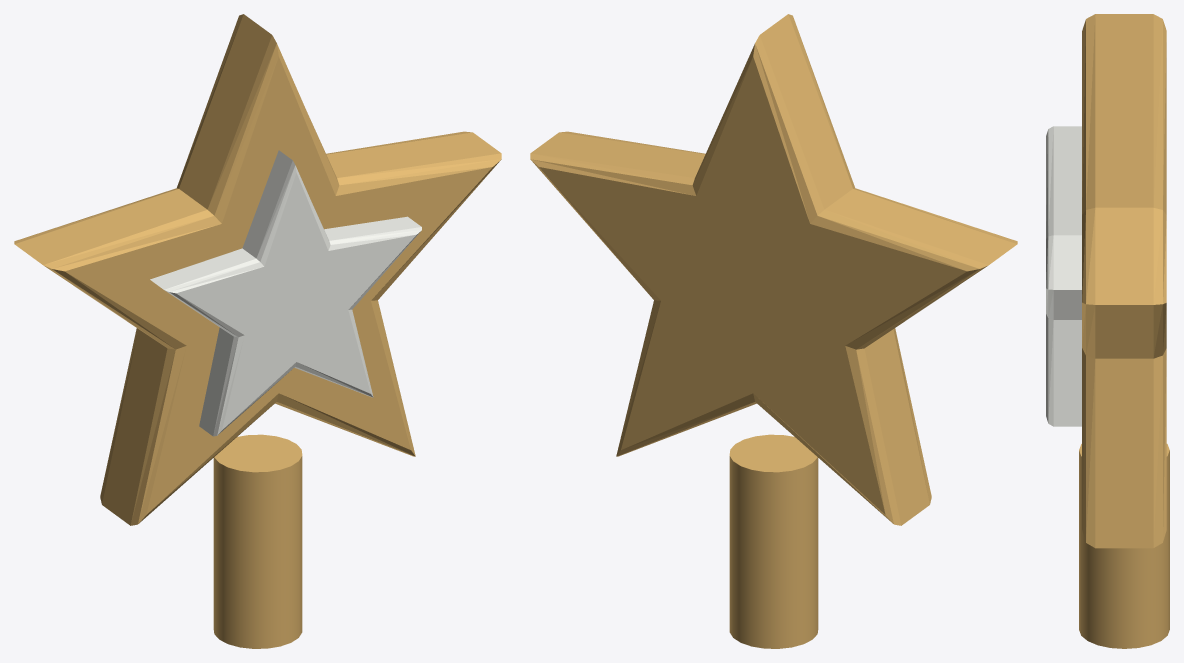
File: christmas-storybook-layered-star-topper-99c54a4d__18736.glb
3 renders of one model, left to right at view 1: azimuth 30°, elevation 25°; view 2: azimuth 150°, elevation 25°; view 3: azimuth 270°, elevation 25°, orthographic.
Parts seen in each view (by area): view 1: brass, cream; view 2: brass; view 3: brass, cream.
Boxes of the visible parts, x1,y1,x2,y2 form: brass: (14,14,501,648); cream: (150,150,421,436); brass: (530,14,1017,648); brass: (1079,14,1169,648); cream: (1046,126,1081,426).
Size of the model in its own units: 0.6517 by 0.8226 by 0.1498.
